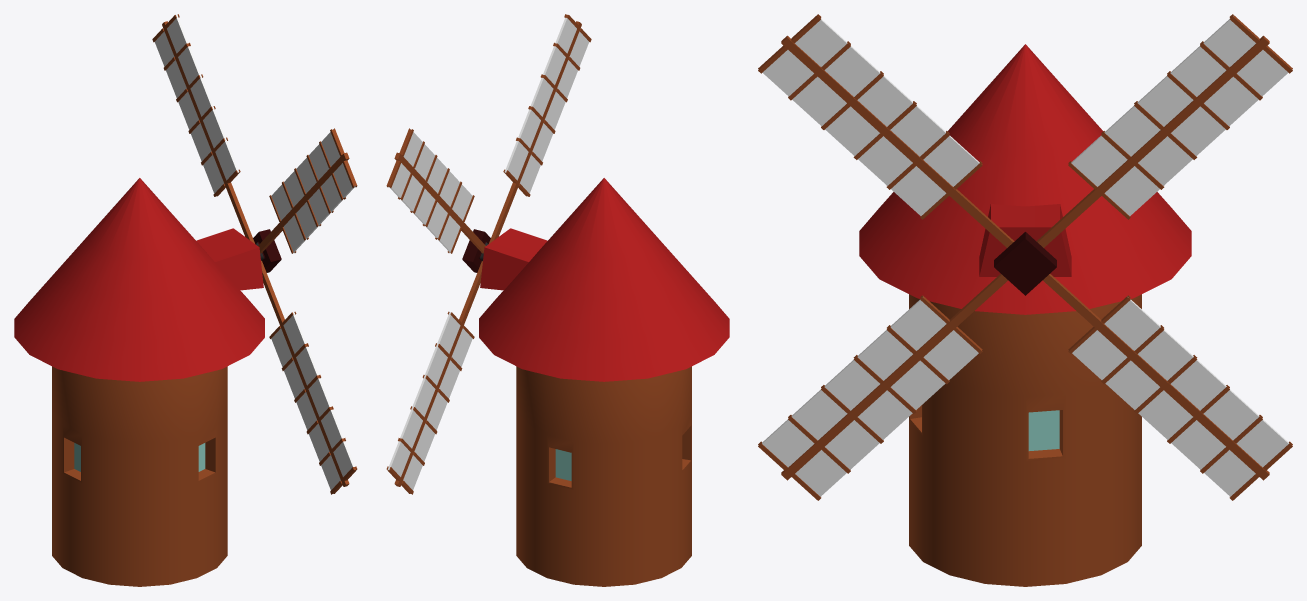
The model's file is mill.FBX.
3 views of the same model, side by side, from view 1: azimuth 30°, elevation 25°; view 2: azimuth 150°, elevation 25°; view 3: azimuth 270°, elevation 25° (orthographic). The views are drawn at different scales.
Visible parts, largest first — view 1: Mill_cylinder, Mill_helix, Mill_screw; view 2: Mill_cylinder, Mill_helix, Mill_screw; view 3: Mill_cylinder, Mill_helix, Mill_screw.
Part boxes in pixels (bbox=[...]): Mill_cylinder: bbox=[14, 178, 264, 586]; Mill_helix: bbox=[152, 14, 357, 494]; Mill_screw: bbox=[253, 229, 281, 272]; Mill_cylinder: bbox=[479, 178, 729, 586]; Mill_helix: bbox=[386, 14, 591, 494]; Mill_screw: bbox=[462, 229, 490, 272]; Mill_cylinder: bbox=[859, 44, 1191, 586]; Mill_helix: bbox=[758, 14, 1292, 500]; Mill_screw: bbox=[994, 232, 1056, 295].
Bounding box in the file's own units: 125 × 223 × 181.
